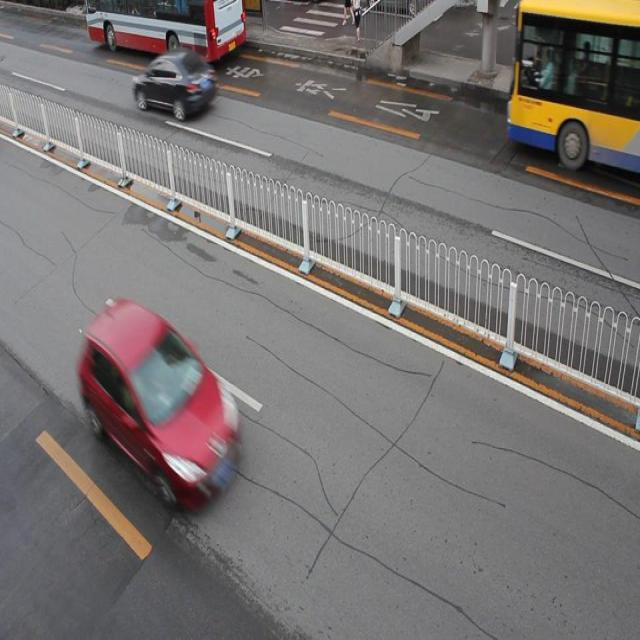car: (79, 300, 240, 506), (134, 46, 216, 119)
van: (506, 2, 640, 175), (88, 1, 247, 64)
